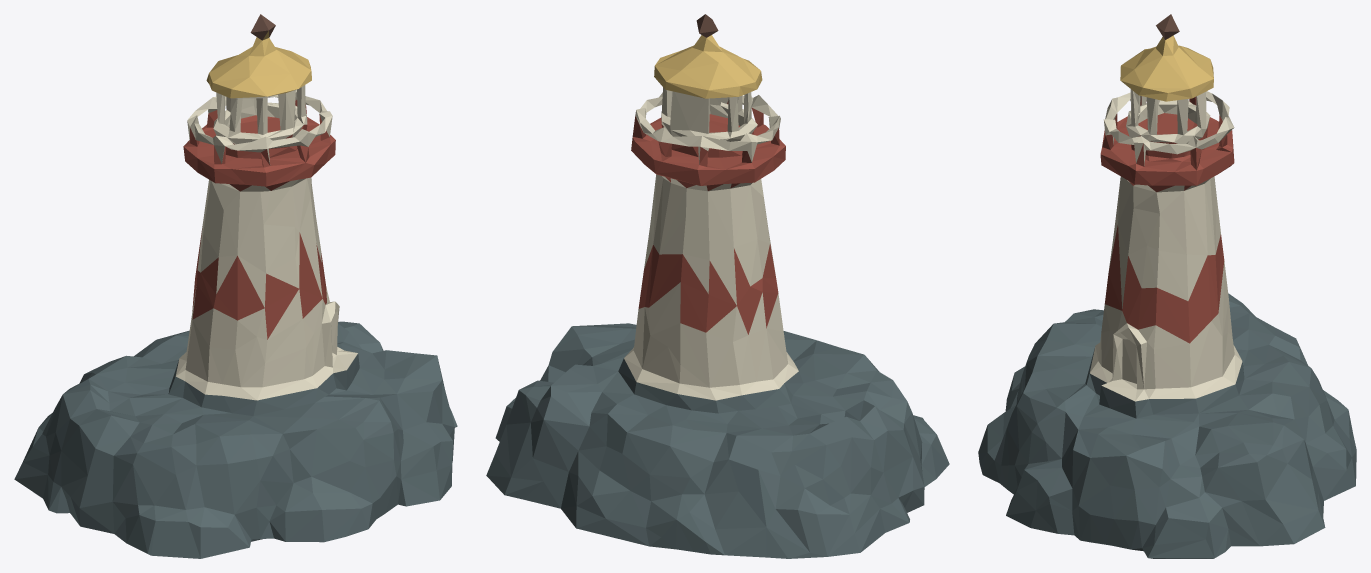
File: lighthouse.glb
The picture shows the model from 3 angles, left to right: view 1: azimuth 30°, elevation 25°; view 2: azimuth 150°, elevation 25°; view 3: azimuth 270°, elevation 25°; orthographic projection.
Visible parts, largest first — view 1: lighthouse; view 2: lighthouse; view 3: lighthouse.
Boxes of the visible parts, x1,y1,x2,y2 form: lighthouse: [14, 14, 457, 558]; lighthouse: [486, 14, 949, 558]; lighthouse: [978, 14, 1356, 558].
Size of the model in its own units: 2.9 by 3.18 by 2.4.
